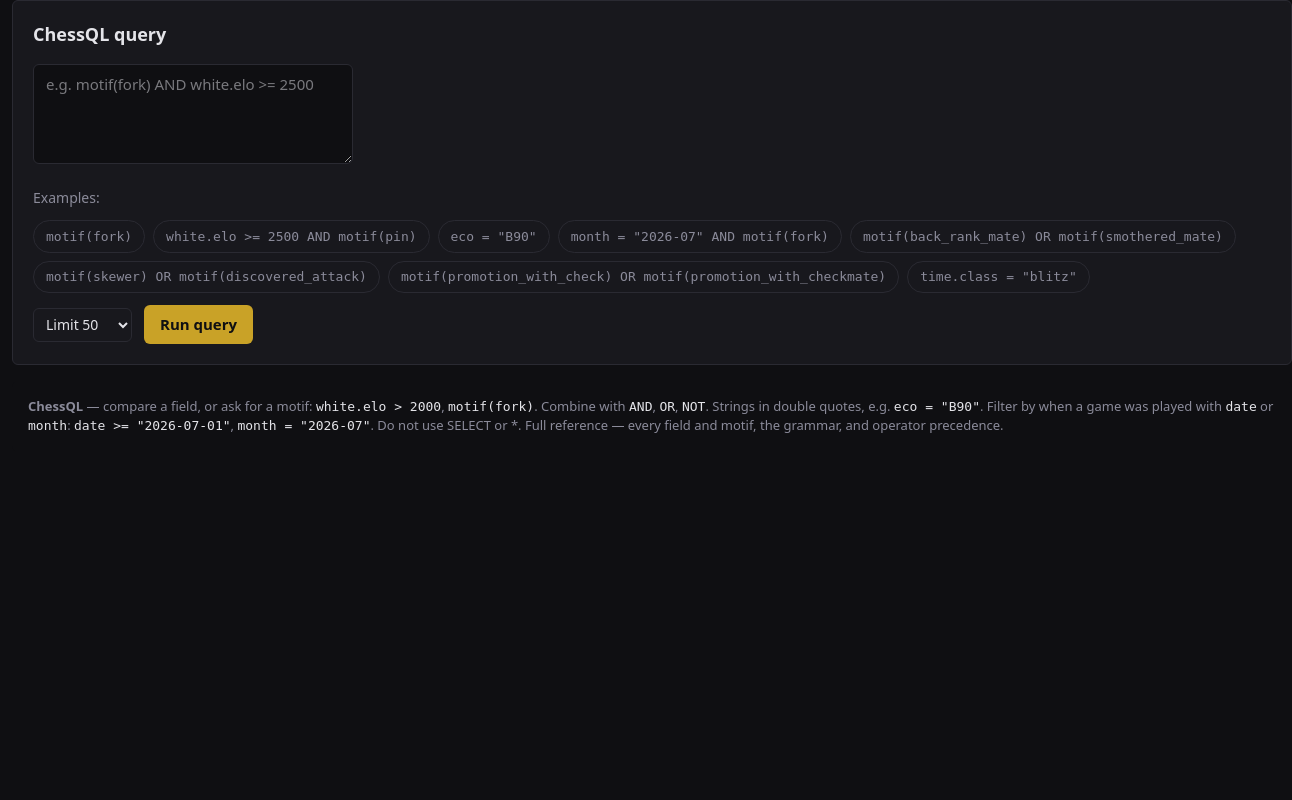
Test: QueryView › opens game detail panel when a result row is clicked
The width and height of the screenshot is (1292, 800).
In the text box with placeholder "e.g. motif(fork) AND white.elo >= 2500": (193, 114) [33, 64, 353, 164], type "motif(fork)"
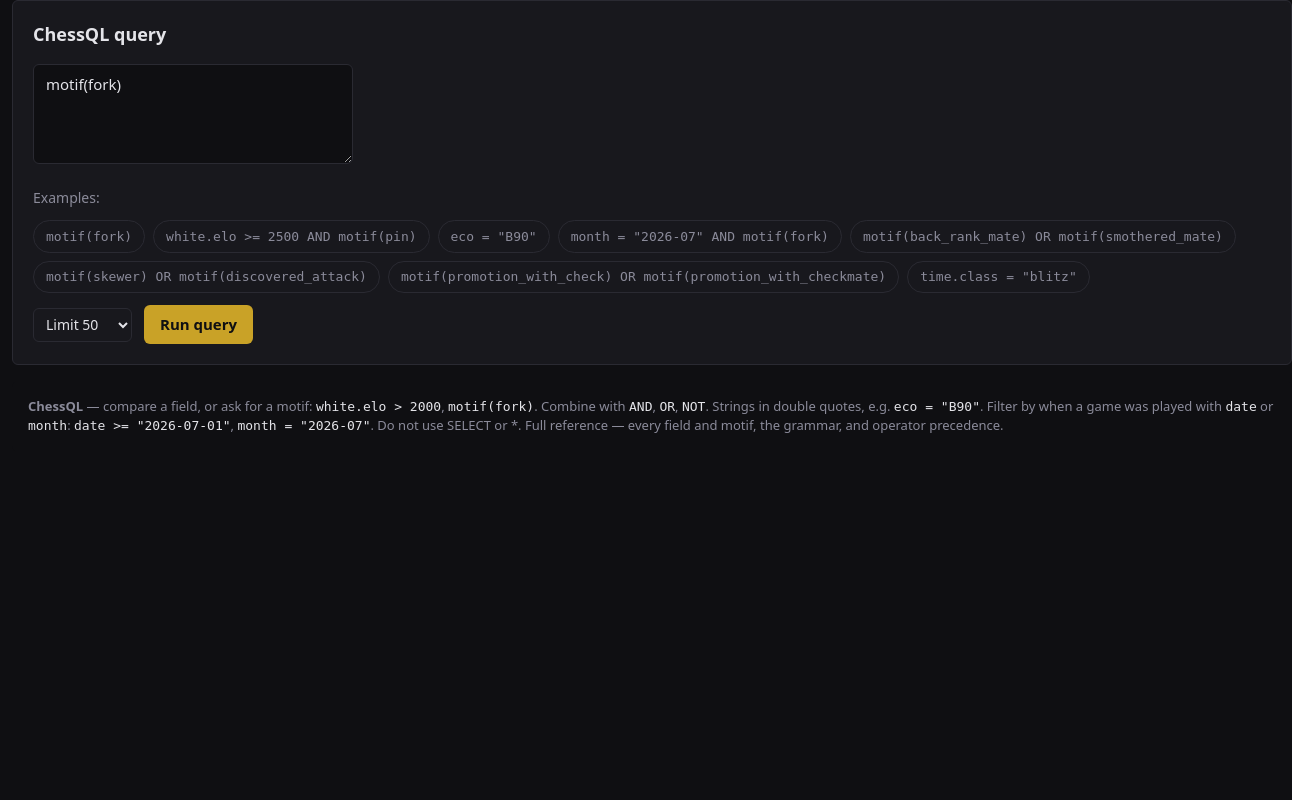
Click the button "Run query": (199, 325) [144, 305, 253, 344]
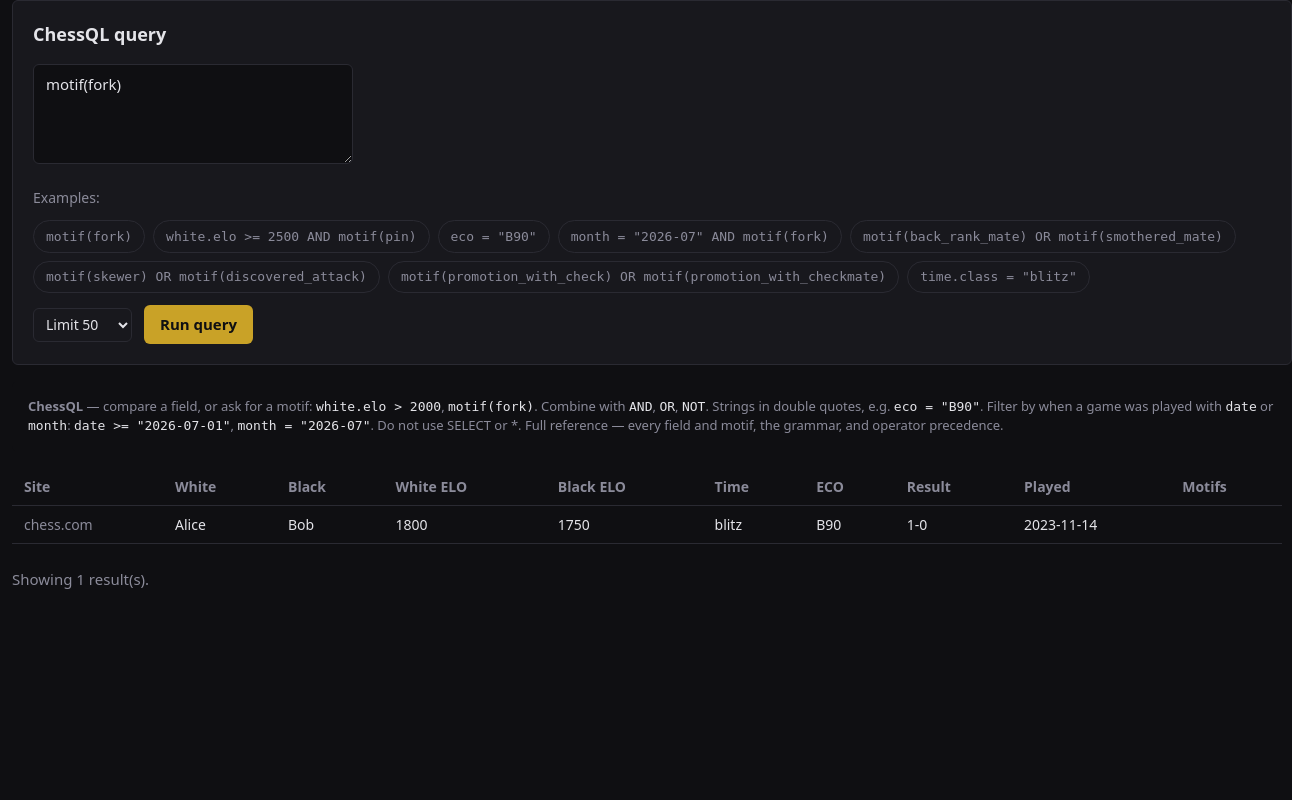
Result: the button "Alice" is shown at [175, 514, 206, 535]
Click the row "chess.com Alice Bob 1800 1750 blitz B90 1-0 2023-11-14": (647, 524) [12, 505, 1282, 543]
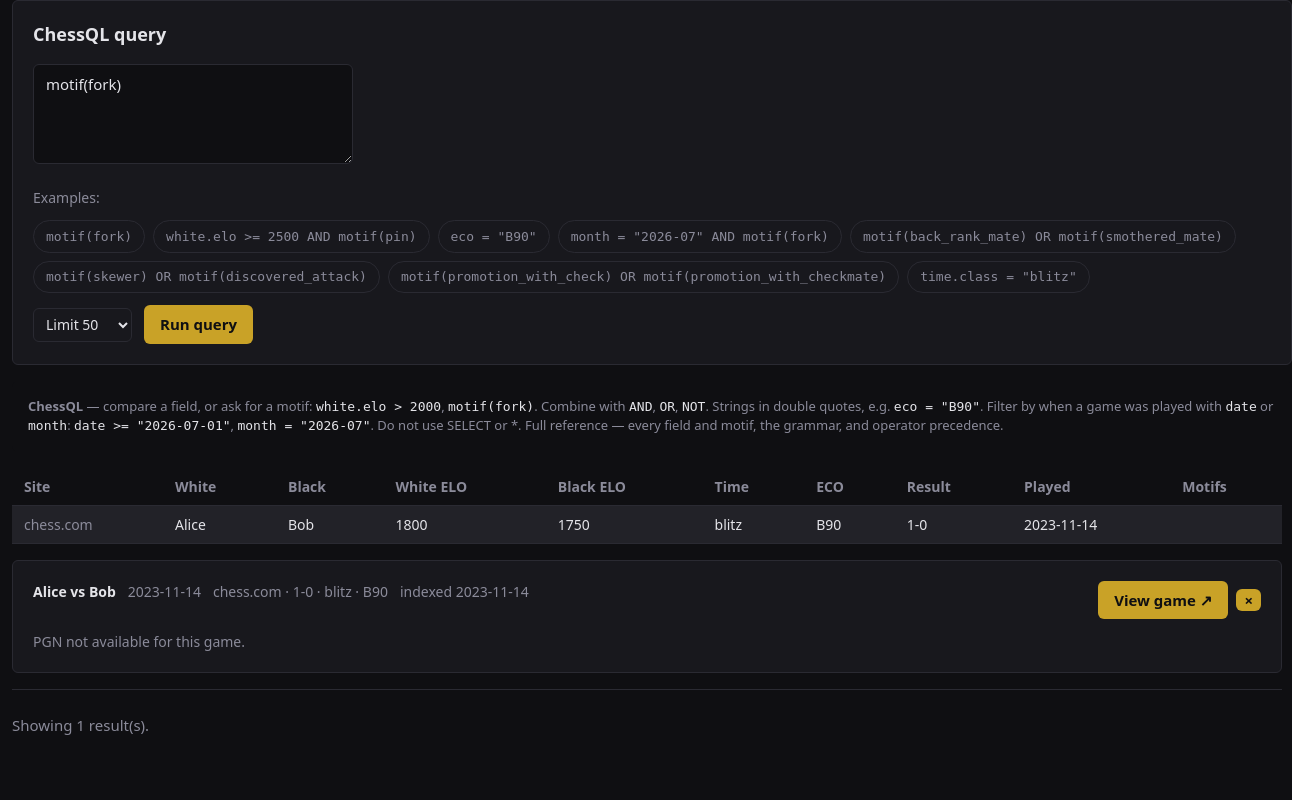
Result: the text "Alice vs Bob" is shown at [33, 582, 116, 601]
